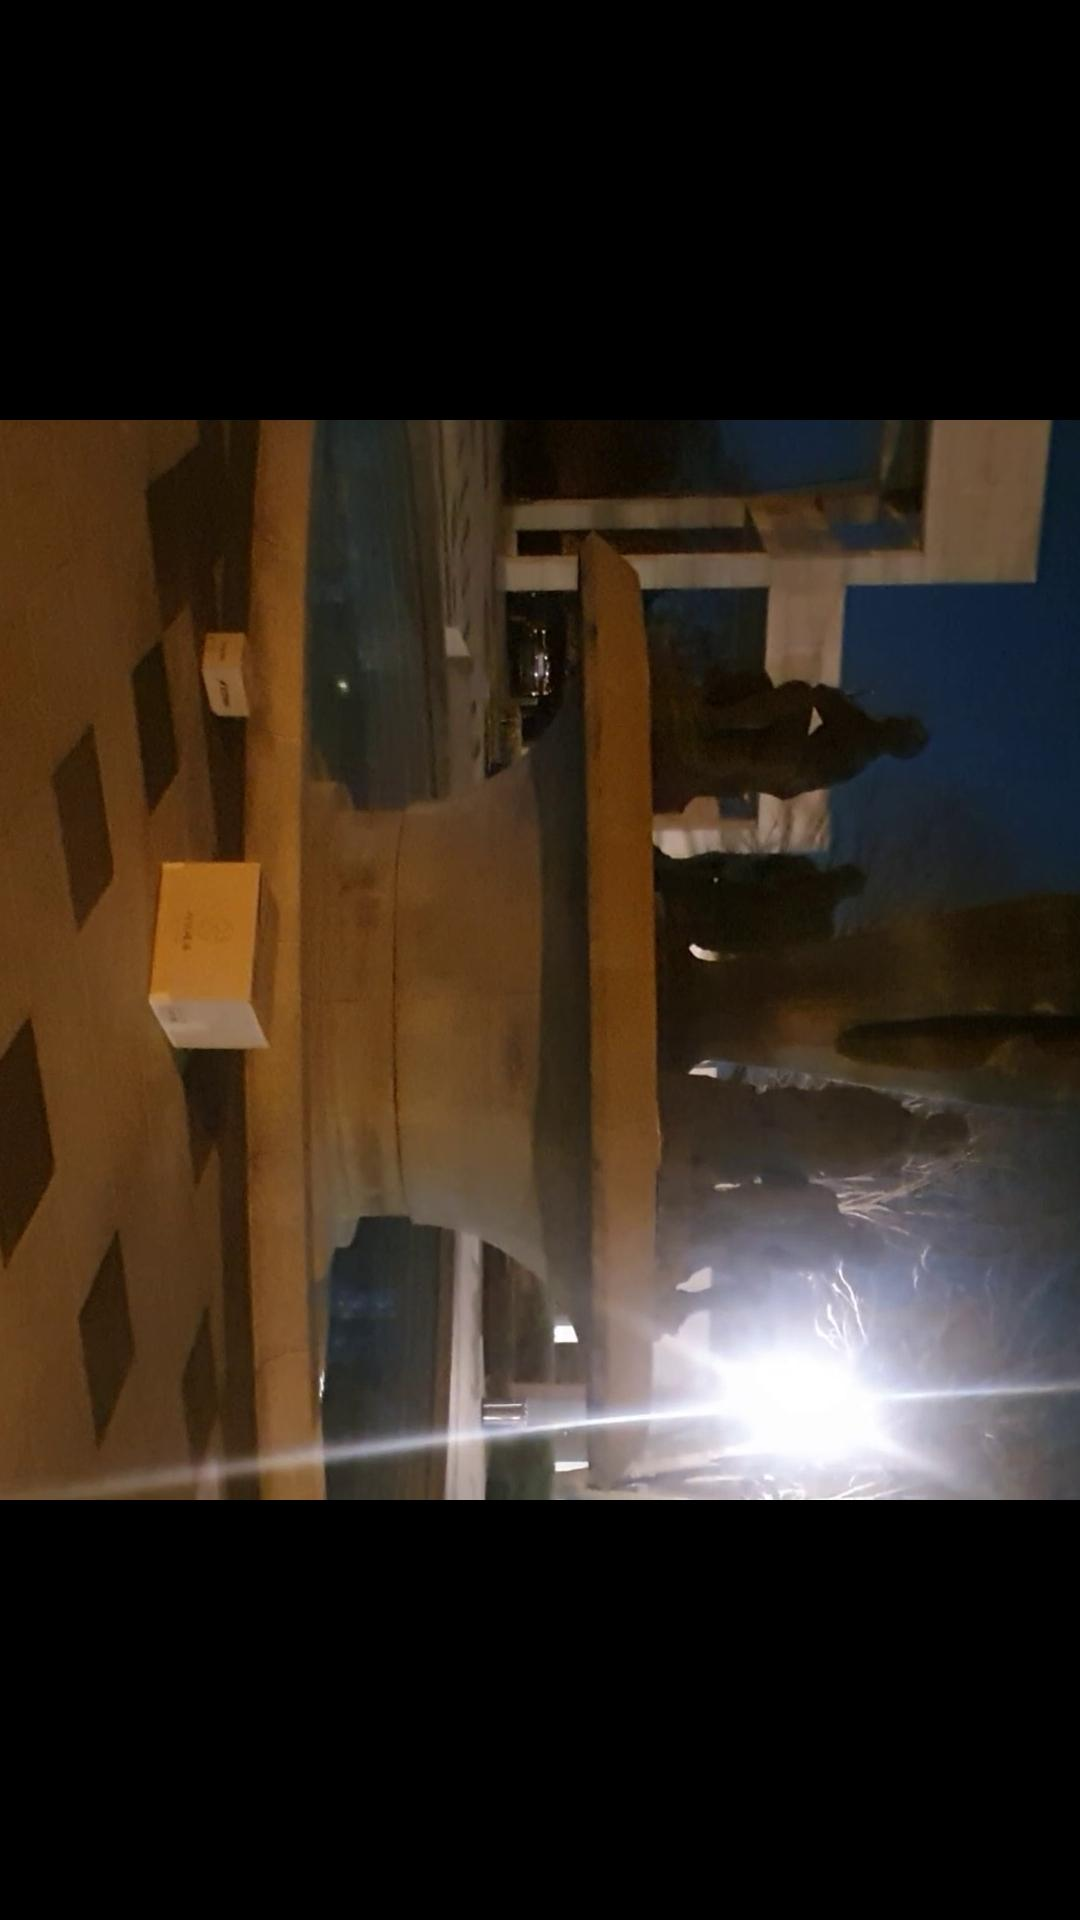Box: (145, 858, 295, 1047), (196, 622, 277, 717)
